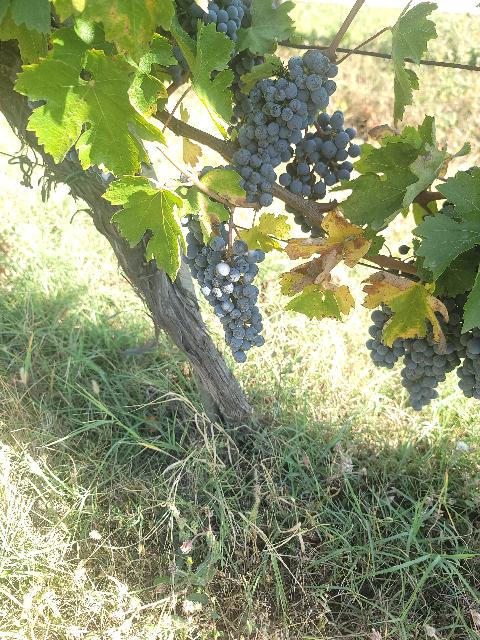grapes: (232, 50, 338, 206), (181, 214, 265, 364), (401, 298, 465, 411), (279, 111, 360, 200), (366, 305, 405, 369), (456, 328, 480, 399)
